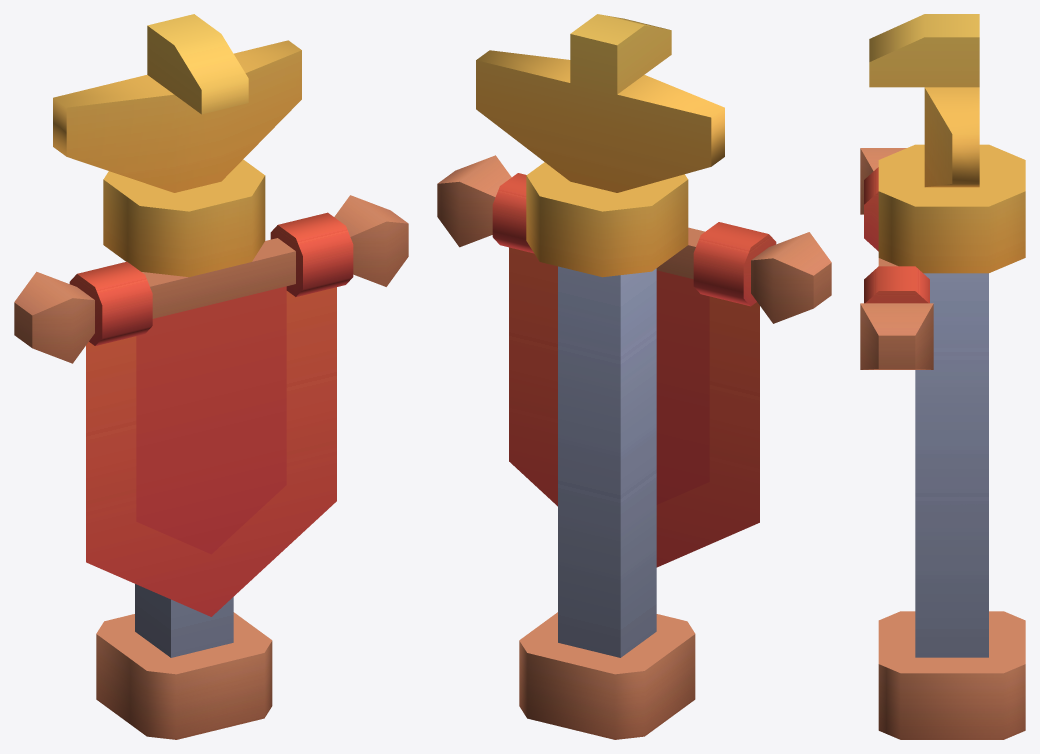
File: banner.glb
3 views of the same model, side by side, from view 1: azimuth 30°, elevation 25°; view 2: azimuth 150°, elevation 25°; view 3: azimuth 270°, elevation 25° (orthographic).
Visible parts, largest first — view 1: banner; view 2: banner; view 3: banner.
Part boxes in pixels (x1,y1,x2,y2): banner: [14, 14, 408, 739]; banner: [437, 14, 831, 739]; banner: [860, 14, 1025, 739].
Bounding box in the file's own units: 0.6 × 1.02 × 0.225.
1 material, 1 textured.
